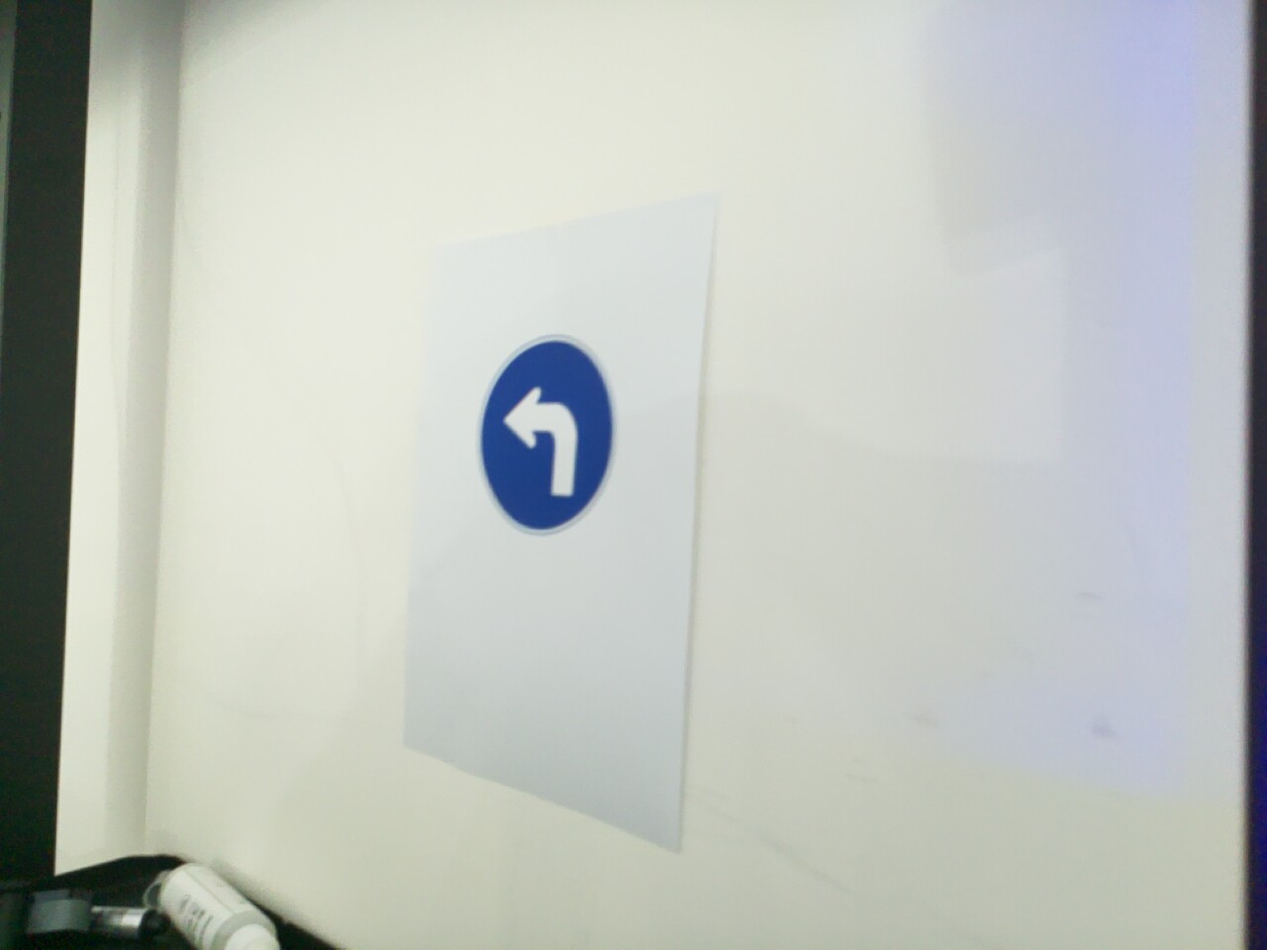left_turn: (475, 333, 619, 536)
